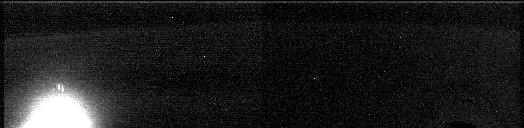positive: (52, 80, 67, 95)
